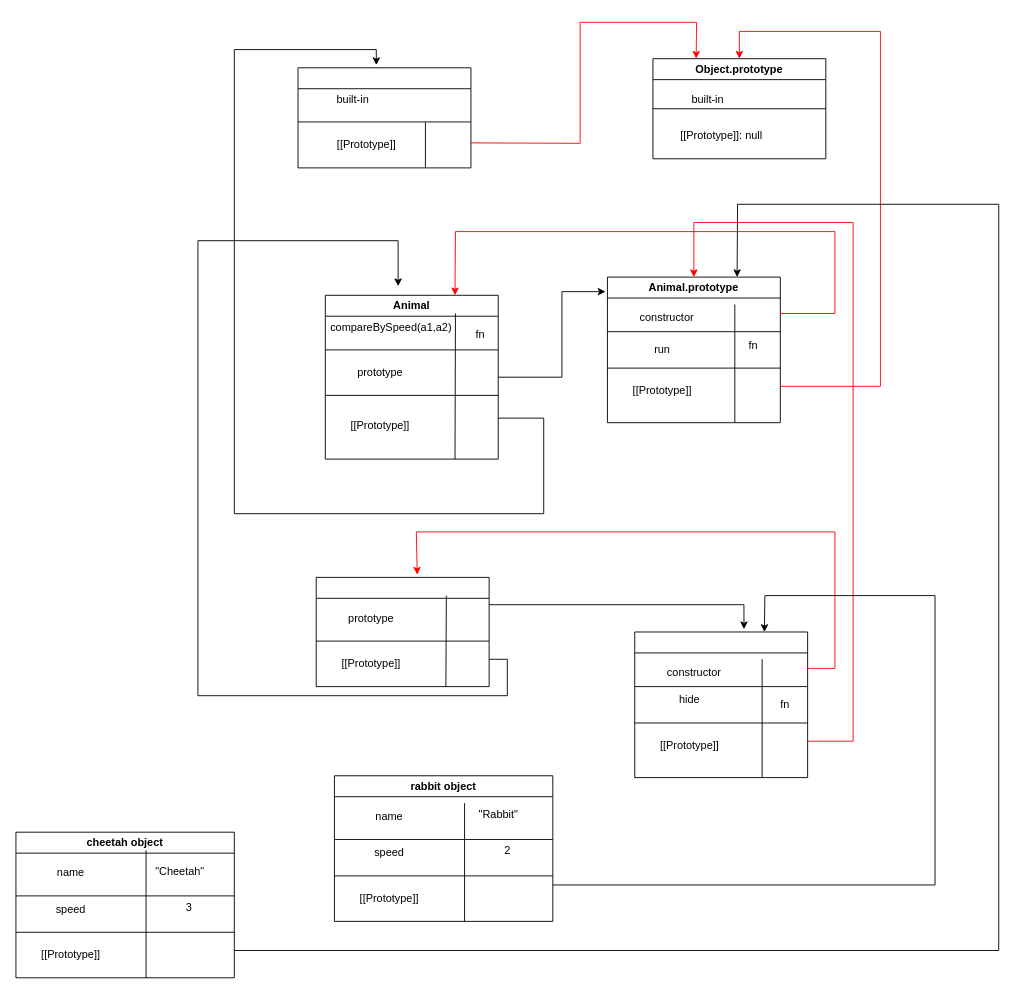
This 1022x995 diagram has some shape labels left out. The shapes that lost their labels are listed below. From the top down, each one's box as (x1, y1, x2, y2) in pixels, then its label:
(297, 67, 471, 168): Function.prototype
(315, 576, 489, 687): Rabbit
(634, 631, 808, 778): Rabbit.prototype
